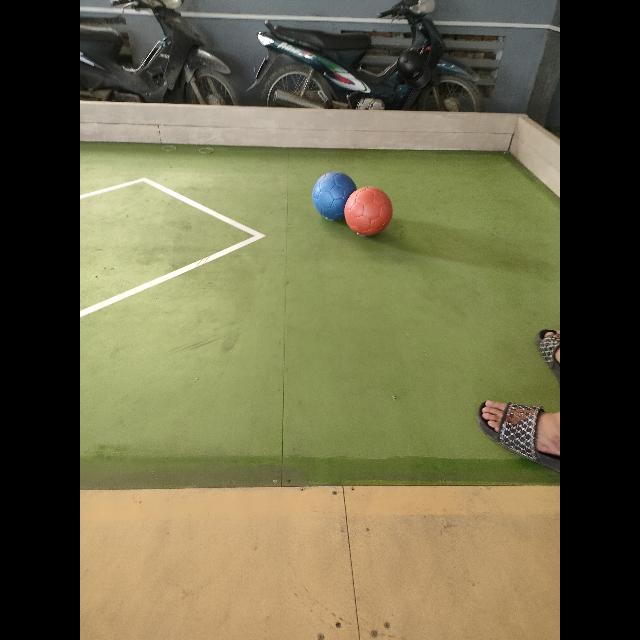B: (312, 171, 356, 220)
R: (344, 186, 392, 235)
